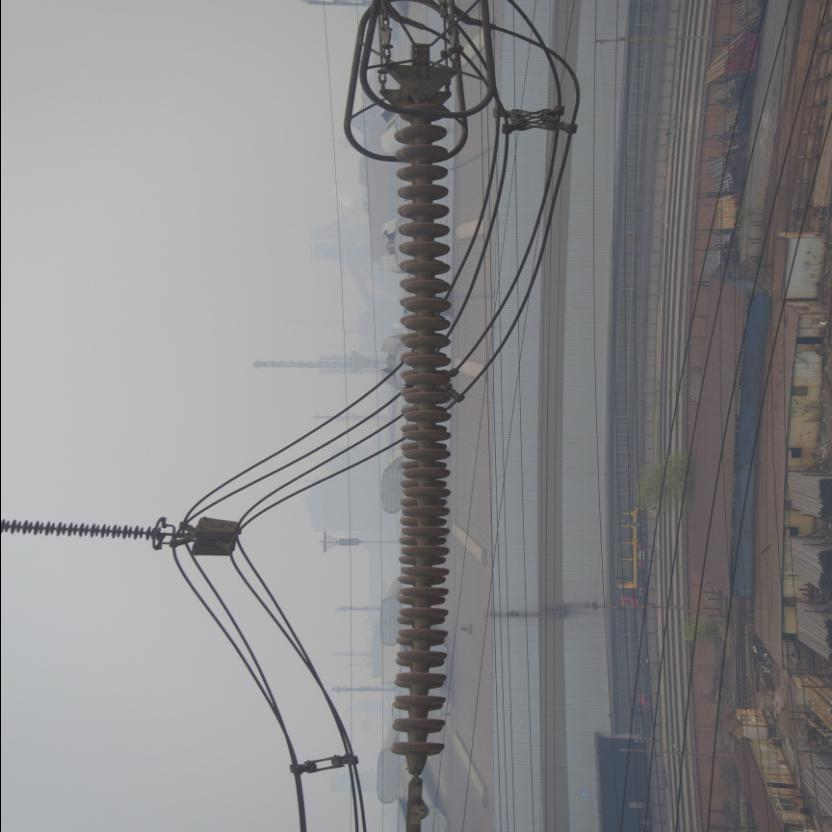insulator: (379, 86, 451, 822)
